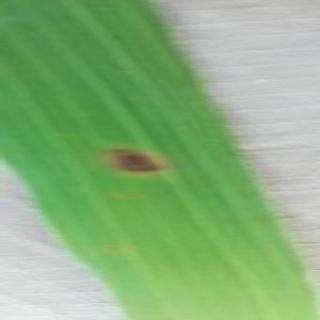bercak-Cokelat: (102, 132, 161, 187)
